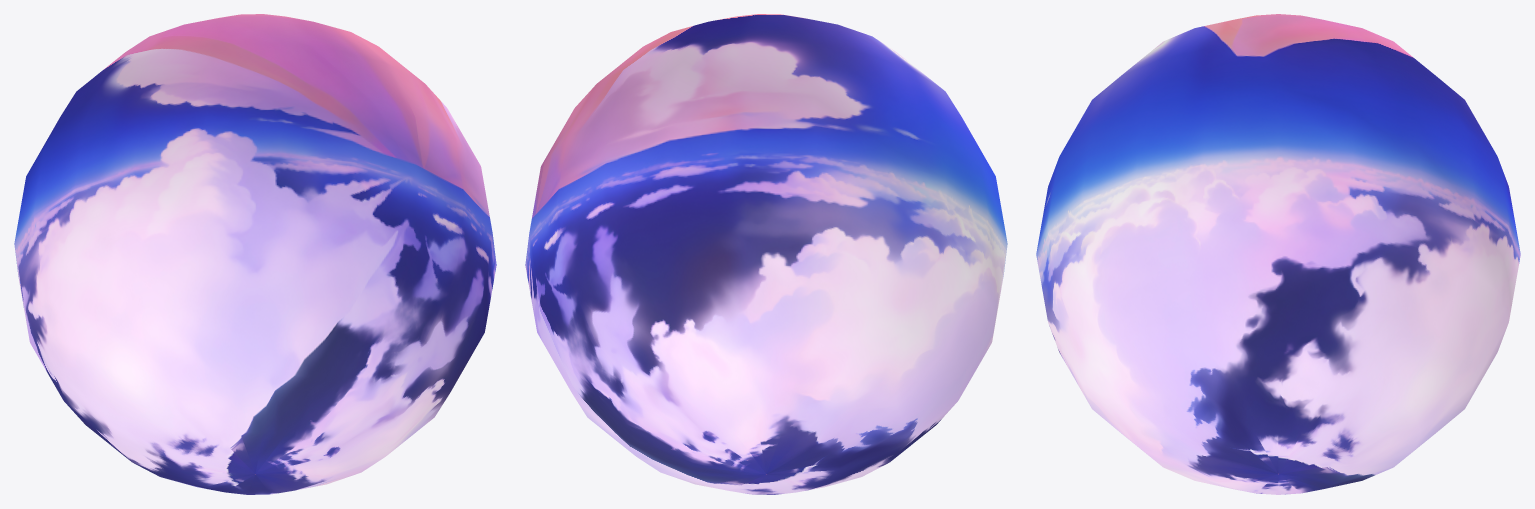
The picture shows the model from 3 angles, left to right: view 1: azimuth 30°, elevation 25°; view 2: azimuth 150°, elevation 25°; view 3: azimuth 270°, elevation 25°; orthographic projection.
Visible parts, largest first — view 1: Skybox; view 2: Skybox; view 3: Skybox.
Boxes of the visible parts, x1=… form: Skybox: x1=14, y1=14, x2=496, y2=494; Skybox: x1=525, y1=14, x2=1007, y2=494; Skybox: x1=1036, y1=14, x2=1520, y2=494.
Size of the model in its own units: 500 by 500 by 500.
1 material, 1 textured.
